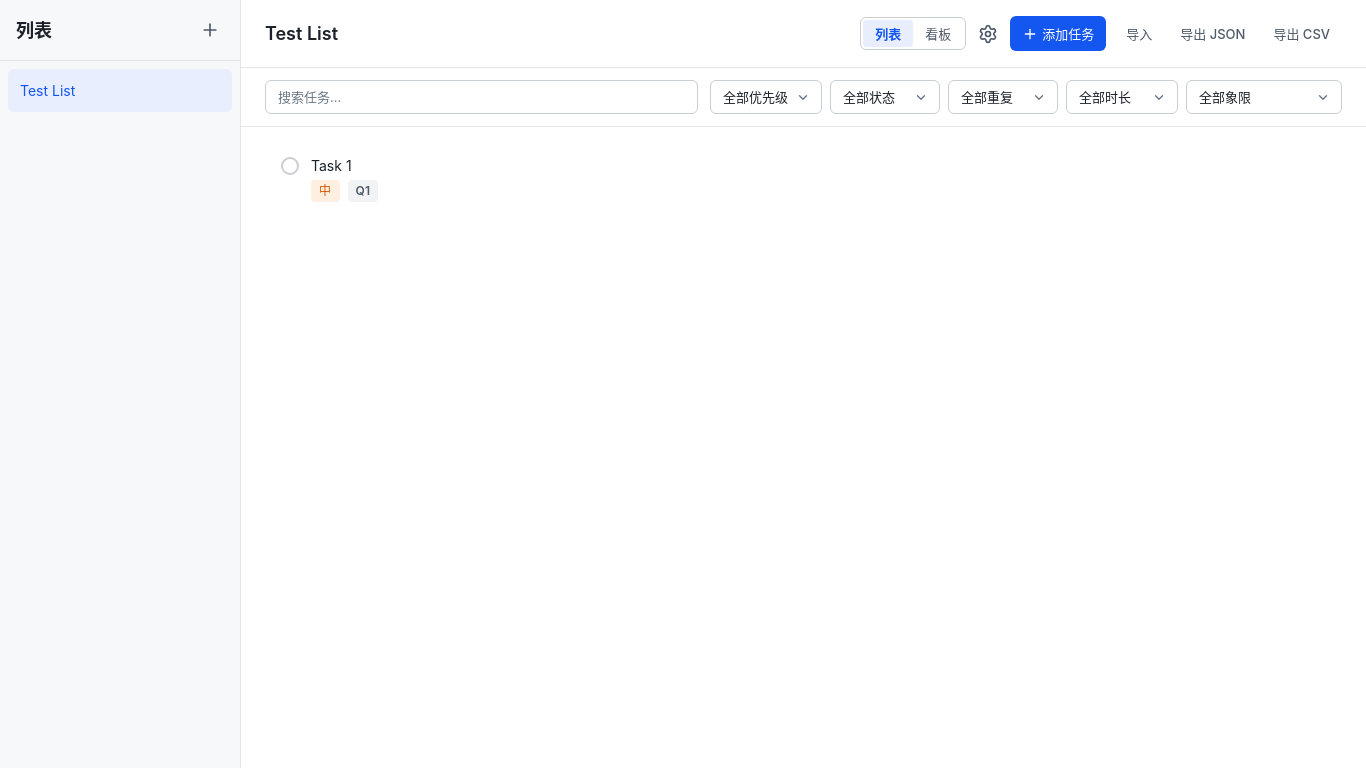
Test: App view toggle › switches back to list view when List button is clicked
# Switch to board
Click the button with test id "view-toggle-board".
click(938, 34)  # box [913, 20, 963, 47]
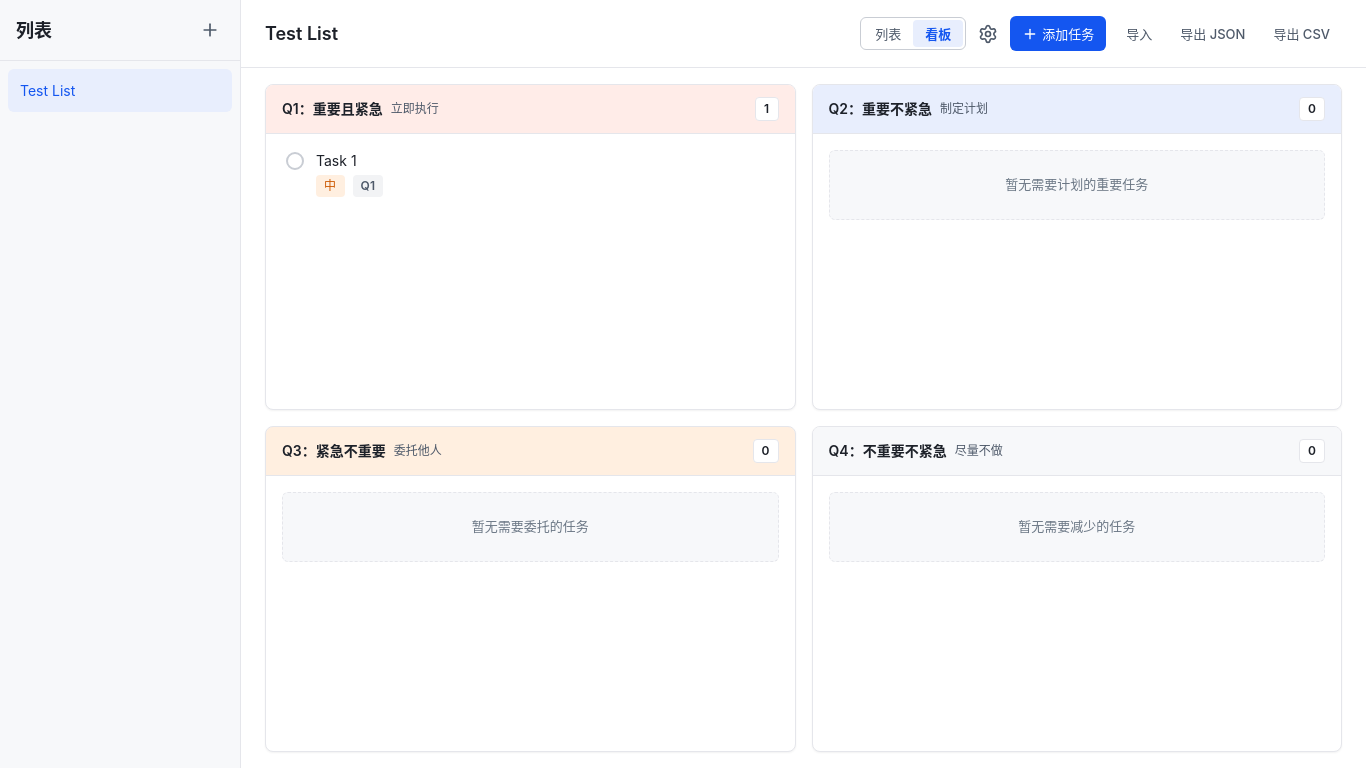
Check: the element with test id "quadrant-board" is shown
# Switch back to list
Click the button with test id "view-toggle-list".
click(888, 34)  # box [863, 20, 913, 47]
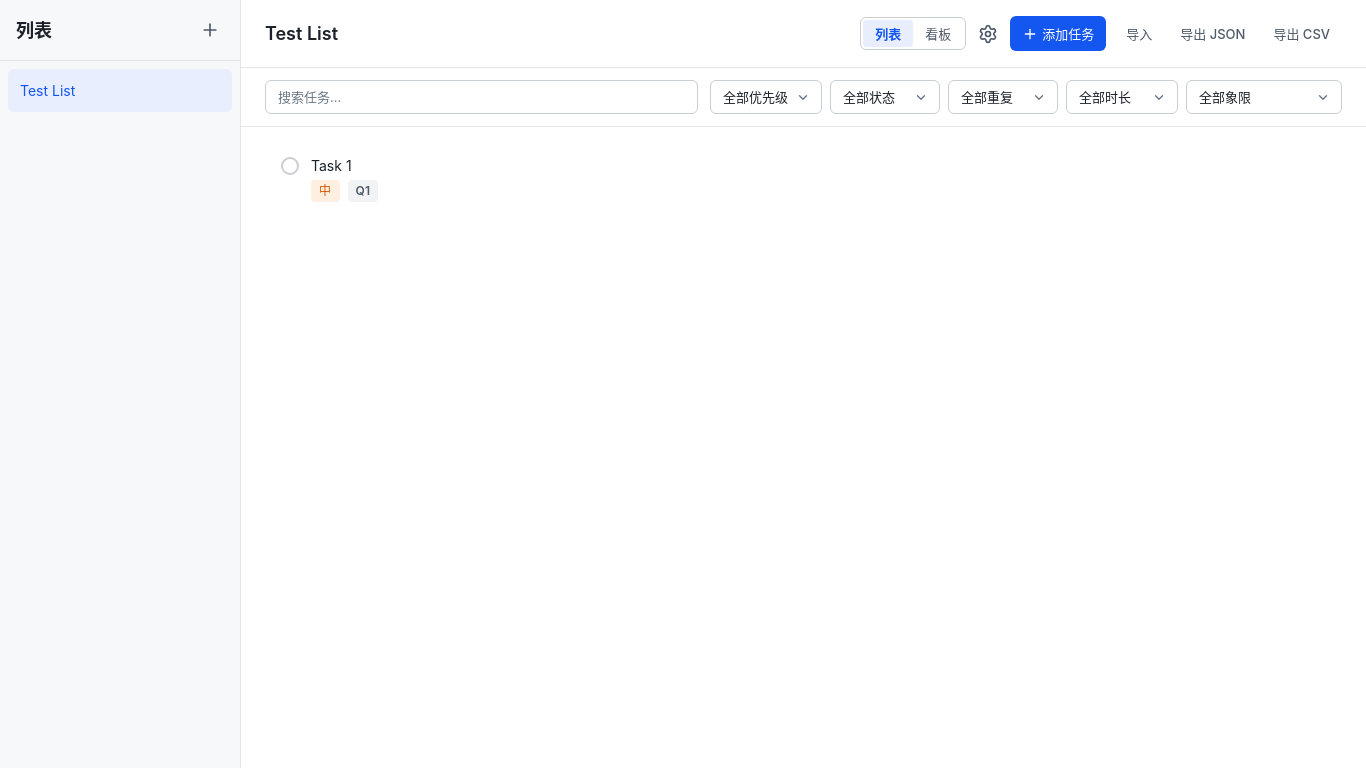
Check: the element with test id "search-filter-bar" is shown, box [241, 68, 1365, 127]
Check: the element with test id "quadrant-board" is gone
